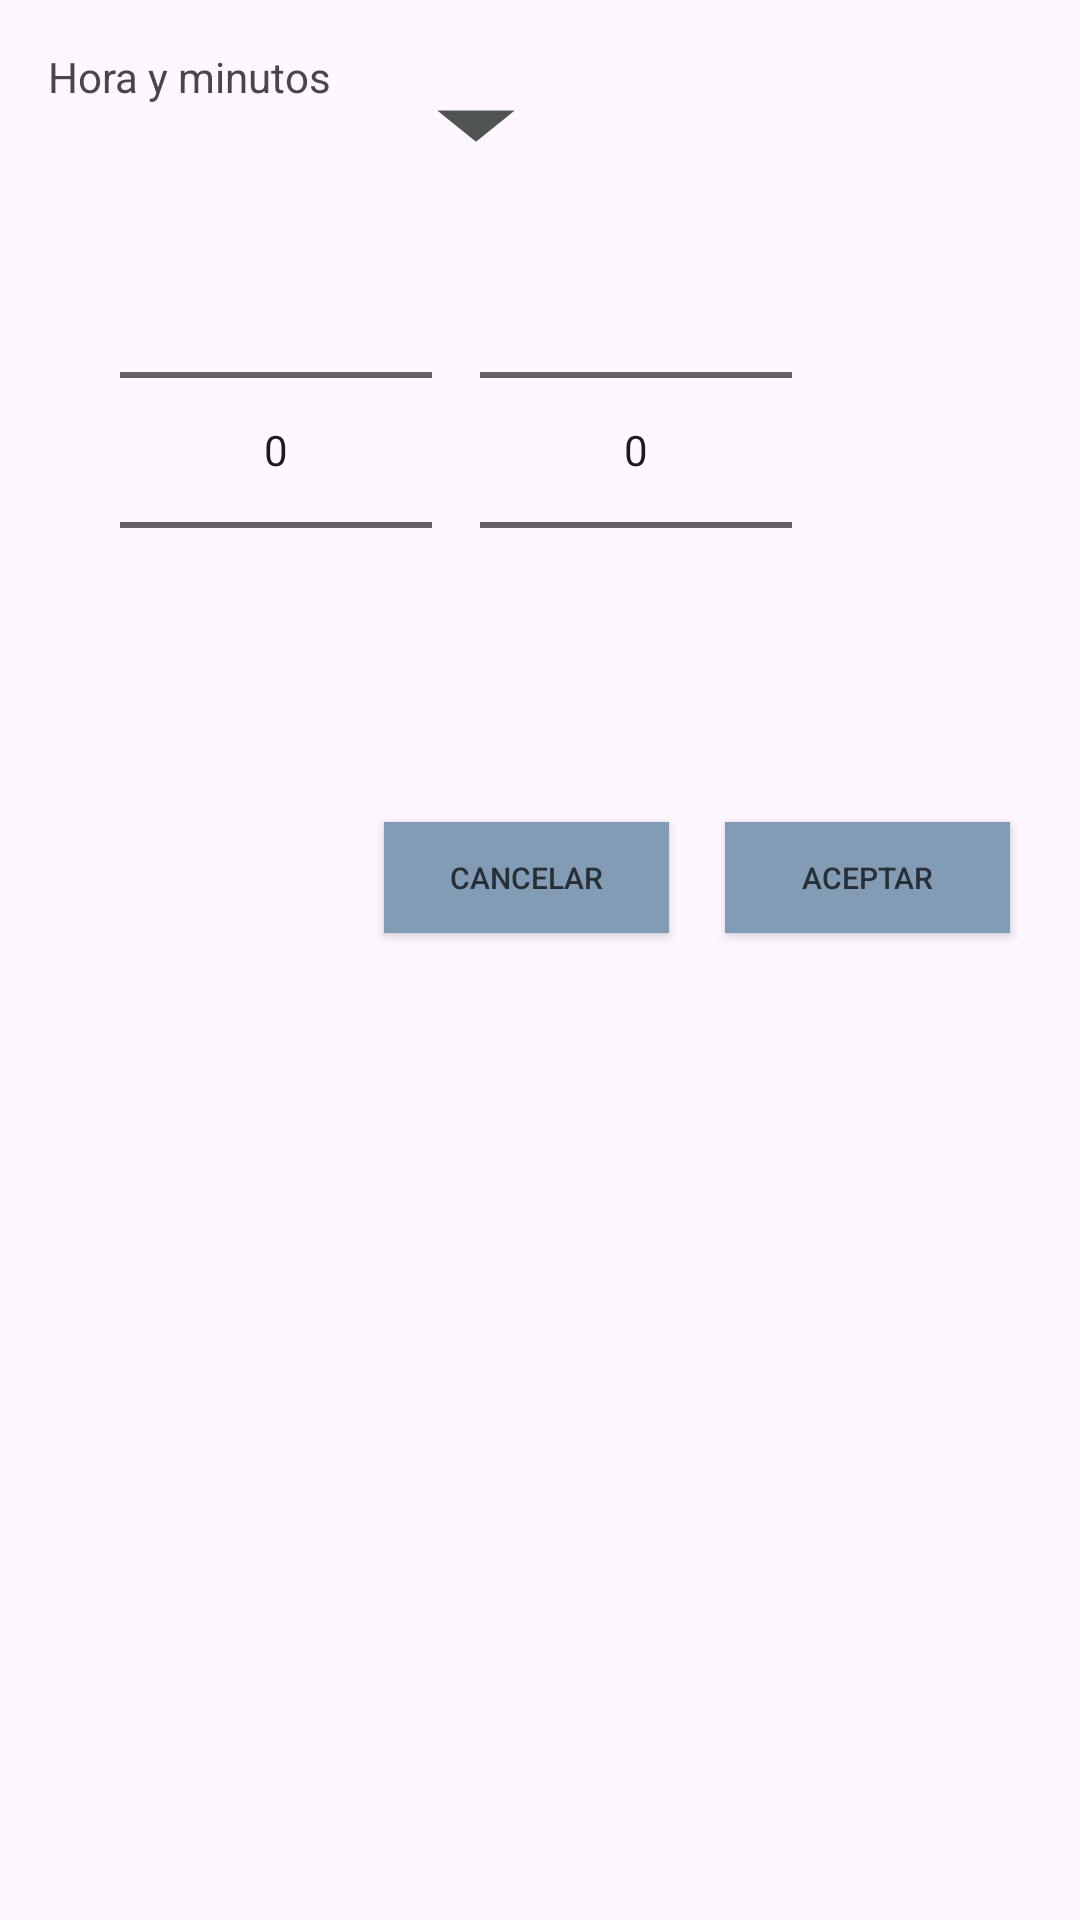

Locate icon controls on the screen. Image size 1080px x 1920px, boxes as (x1, y1, x2, y2).
arrow: (437, 110, 515, 142)
